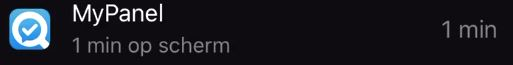name: (65, 2, 173, 29)
time: (67, 32, 127, 64)
